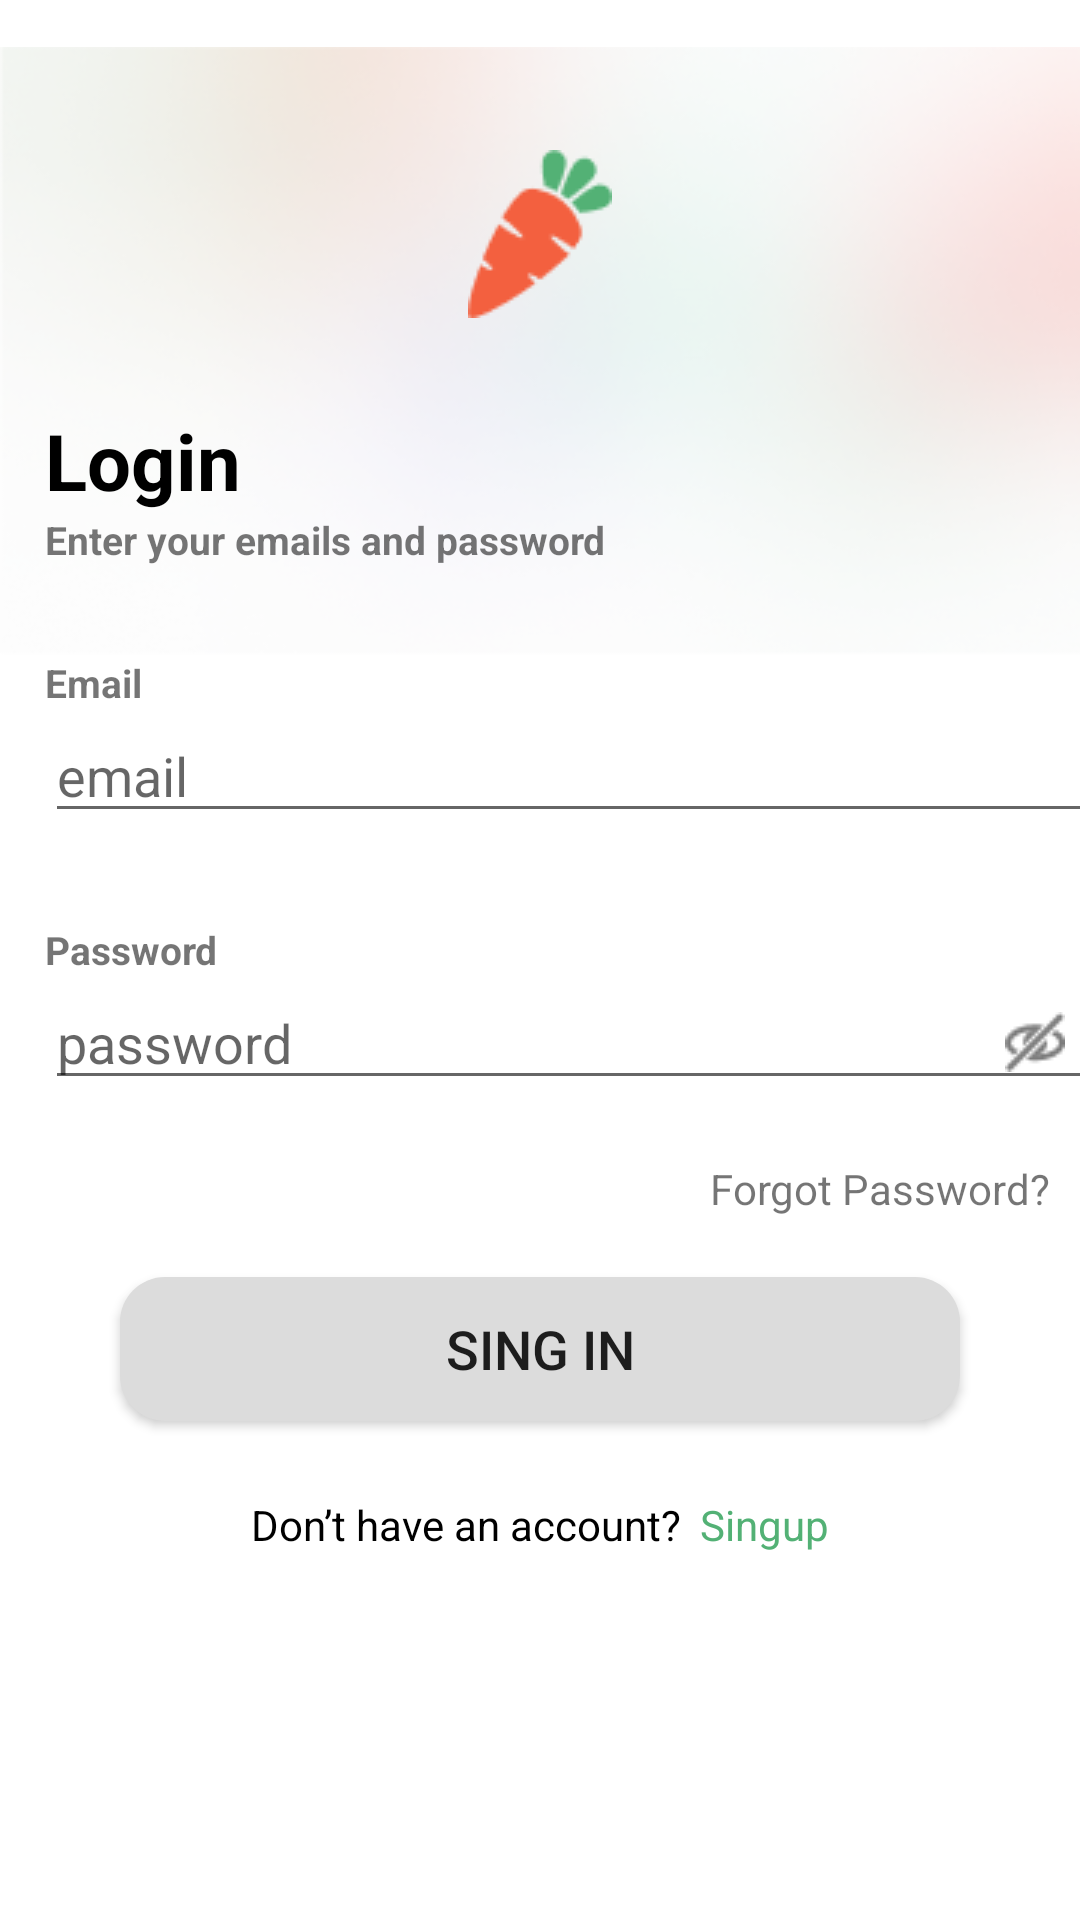

Icon bounding boxes for this 1080*1920 phone screenshot, format (x1, y1, x2, y2):
carrot: (468, 150, 612, 318)
